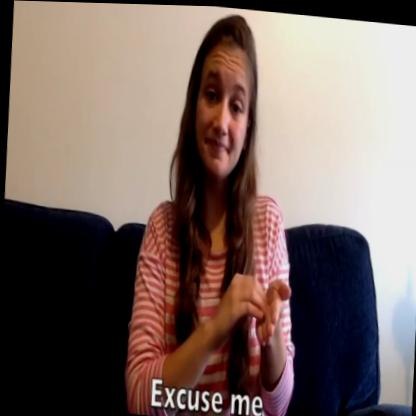ExcuseMe: (209, 265, 295, 370)
